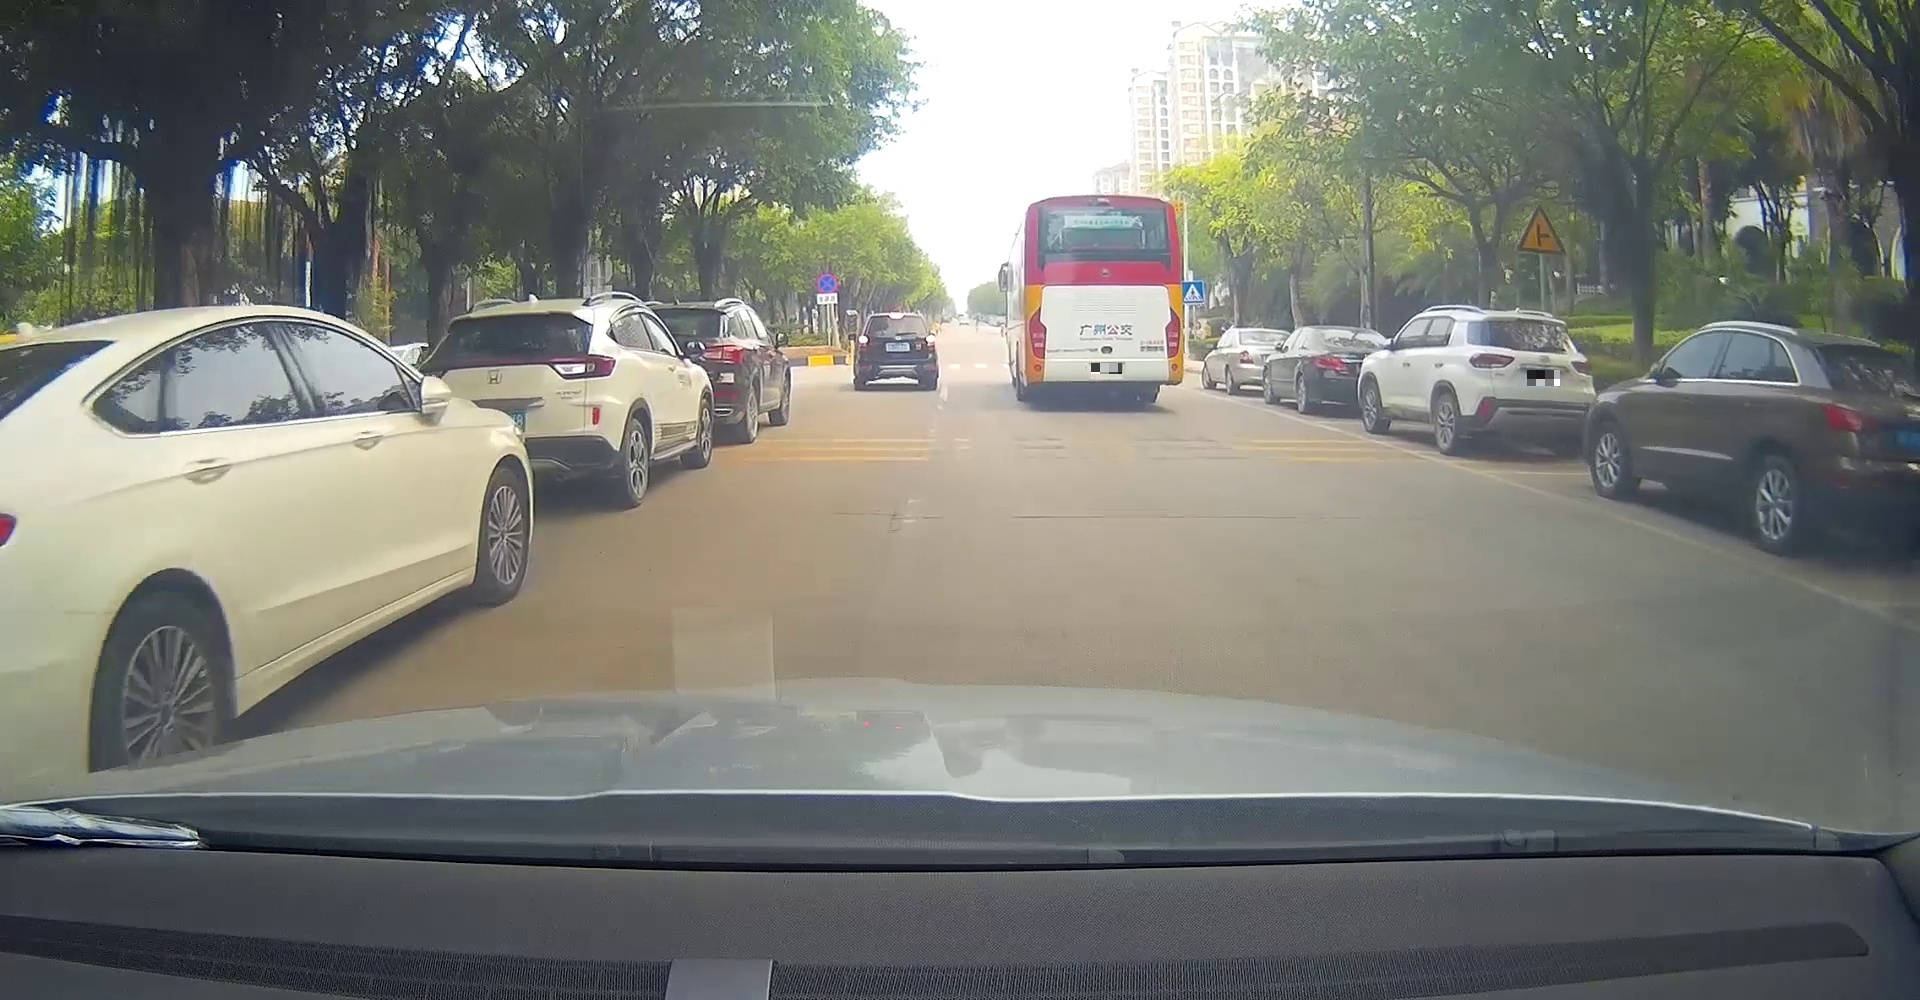L_light: (1029, 306, 1048, 359), (1468, 353, 1515, 368), (858, 335, 869, 352)
R_light: (1164, 306, 1181, 359), (1571, 359, 1594, 377), (926, 335, 936, 352)
T_light: (1515, 317, 1544, 324), (1095, 195, 1112, 206), (888, 313, 904, 319)
day-brake: (857, 312, 937, 390)
day-no: (1023, 195, 1183, 402), (1467, 305, 1597, 457)
plate_1: (1091, 363, 1123, 374)
plate_2: (1528, 371, 1559, 386)
